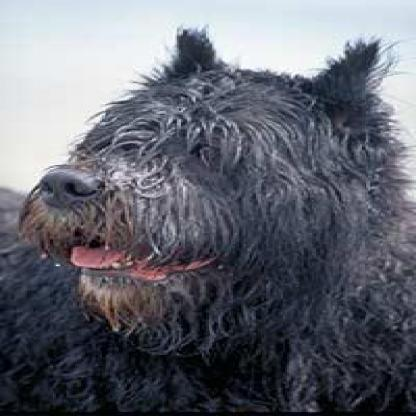Bouvier_des_Flandres: (0, 21, 410, 412)
